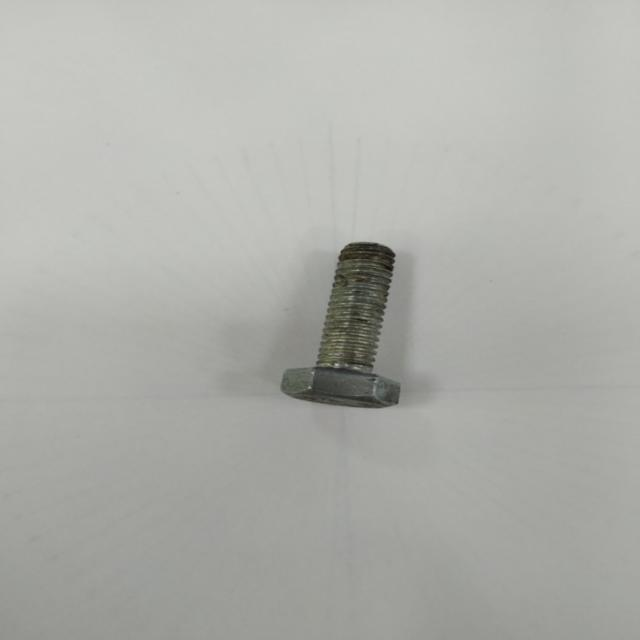Bolt: (282, 242, 401, 408)
